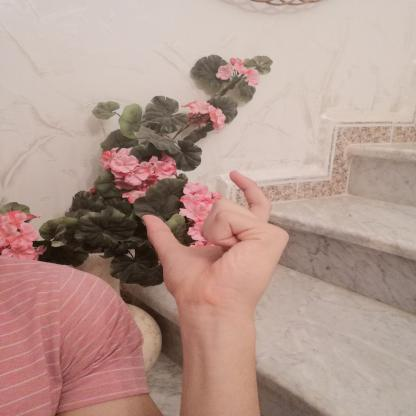NOON: (128, 160, 308, 329)
